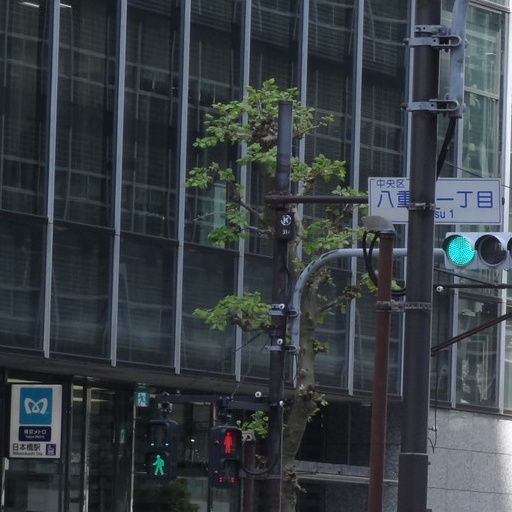Pedestrian_Signal_Blue: (148, 422, 172, 479)
Pedestrian_Signal_Red: (218, 417, 242, 470)
Traffic_Signal_Blue: (439, 231, 510, 268)
